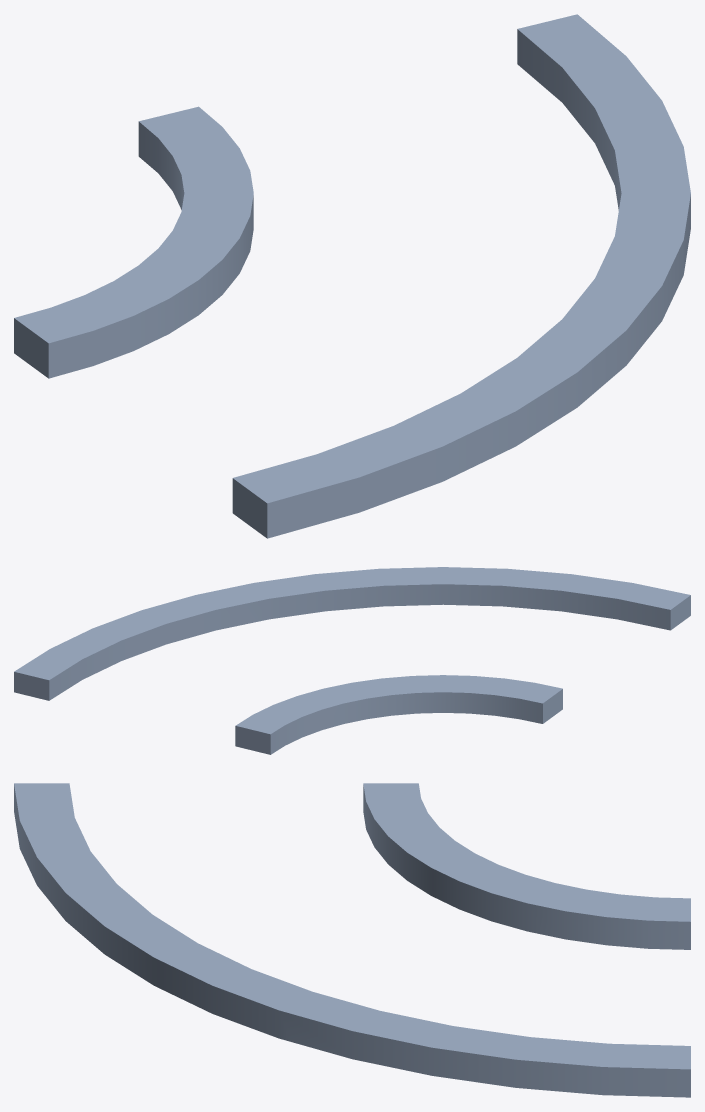
File: trackSimpleCornerSmall.fbx
3 views of the same model, one above another, from view 1: azimuth 30°, elevation 25°; view 2: azimuth 150°, elevation 25°; view 3: azimuth 270°, elevation 25° (orthographic). The views are drawn at different scales.
Visible parts, largest first — view 1: trackSimpleCornerSmall; view 2: trackSimpleCornerSmall; view 3: trackSimpleCornerSmall.
Part boxes in pixels (x1,y1,x2,y2): trackSimpleCornerSmall: (14, 14, 690, 538); trackSimpleCornerSmall: (14, 567, 690, 754); trackSimpleCornerSmall: (14, 783, 690, 1097).
Size of the model in its own units: 2.2 by 0.1009 by 2.2.
